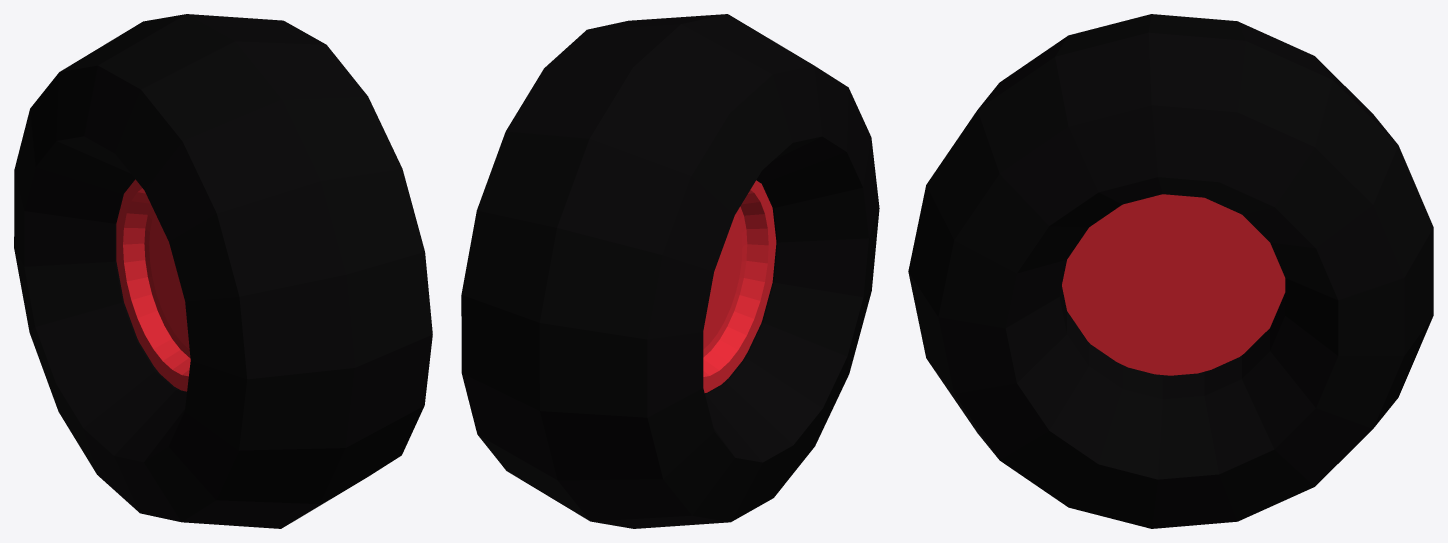
File: centeredWheel.fbx
The picture shows the model from 3 angles, left to right: view 1: azimuth 30°, elevation 25°; view 2: azimuth 150°, elevation 25°; view 3: azimuth 270°, elevation 25°; orthographic projection.
Visible parts, largest first — view 1: wheel front left.001; view 2: wheel front left.001; view 3: wheel front left.001.
Boxes of the visible parts, x1,y1,x2,y2 form: wheel front left.001: (14, 14, 432, 528); wheel front left.001: (461, 14, 879, 528); wheel front left.001: (908, 14, 1433, 528).
Size of the model in its own units: 213 by 418 by 416.
